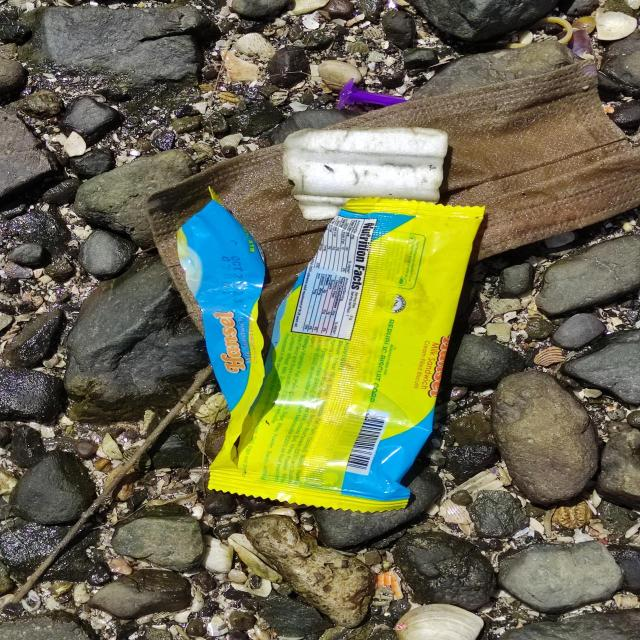plastic_waste: (177, 186, 491, 514)
styrofoam_waste: (283, 130, 456, 222)
